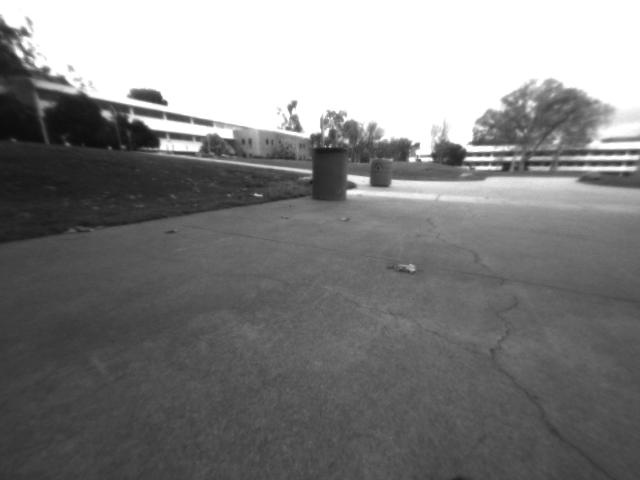trashcan: (313, 146, 346, 206), (369, 161, 391, 188)
